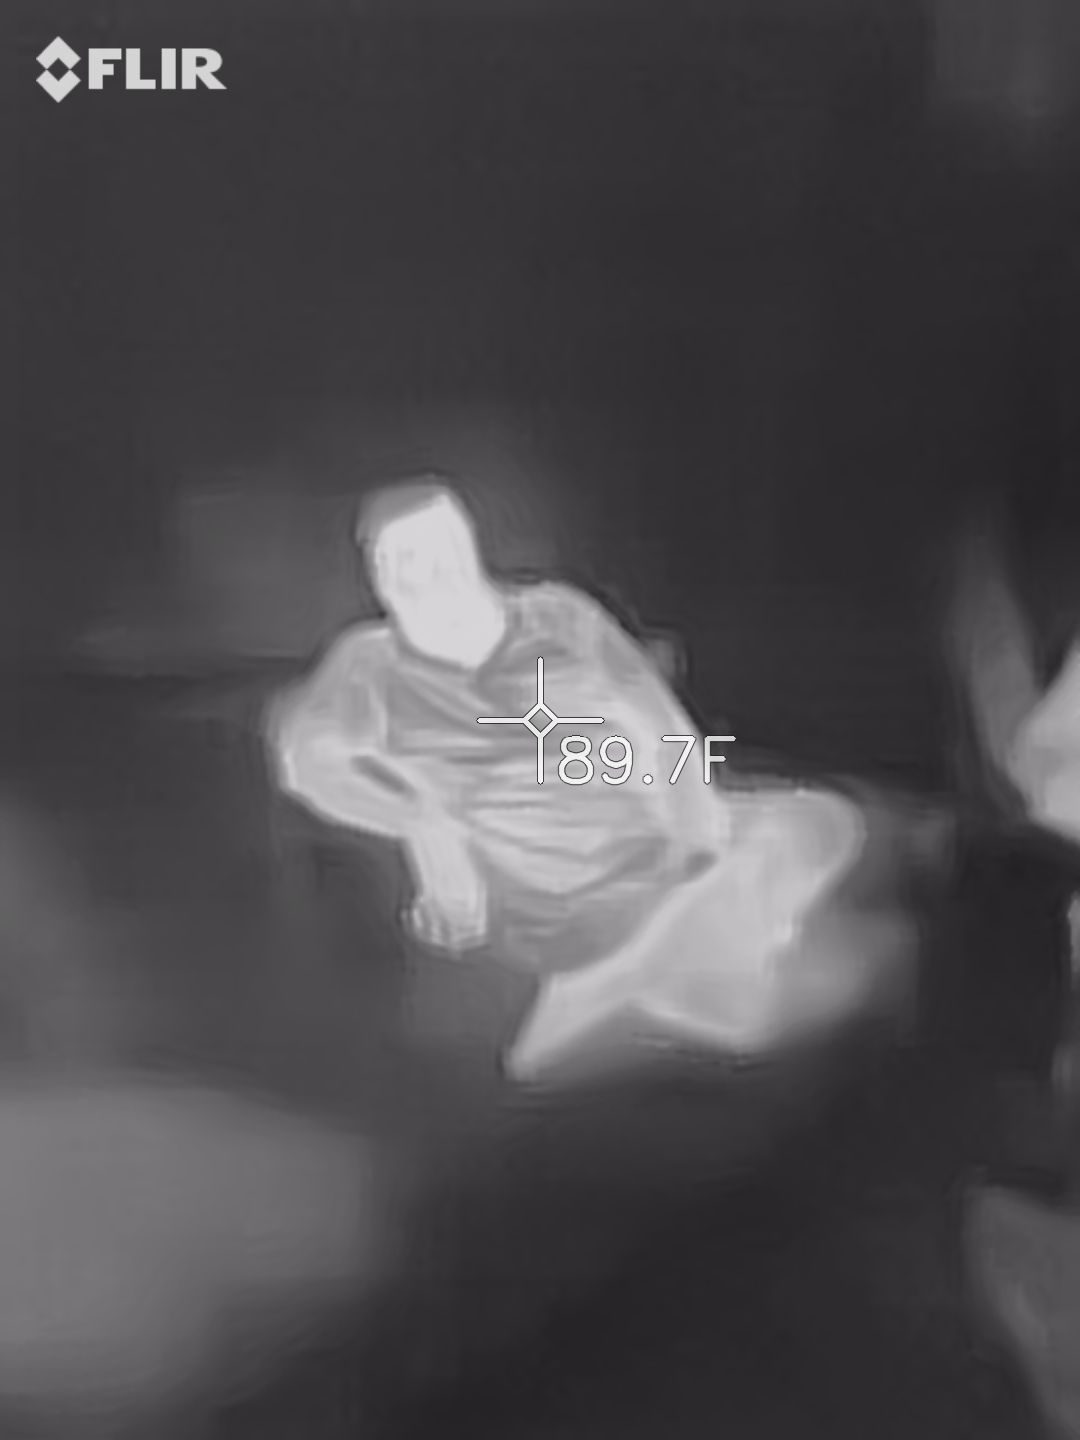head: (347, 487, 504, 639)
